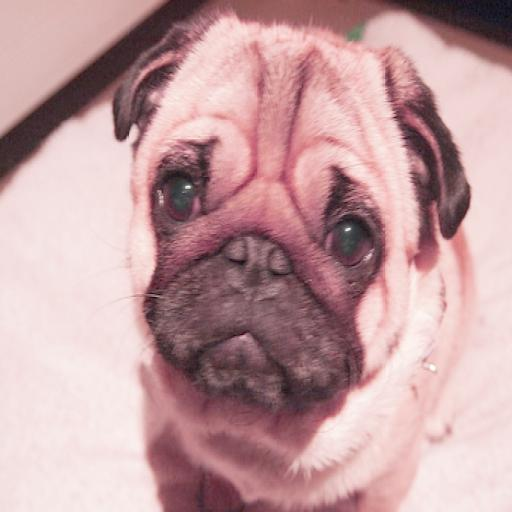dog_face: (107, 8, 473, 406)
